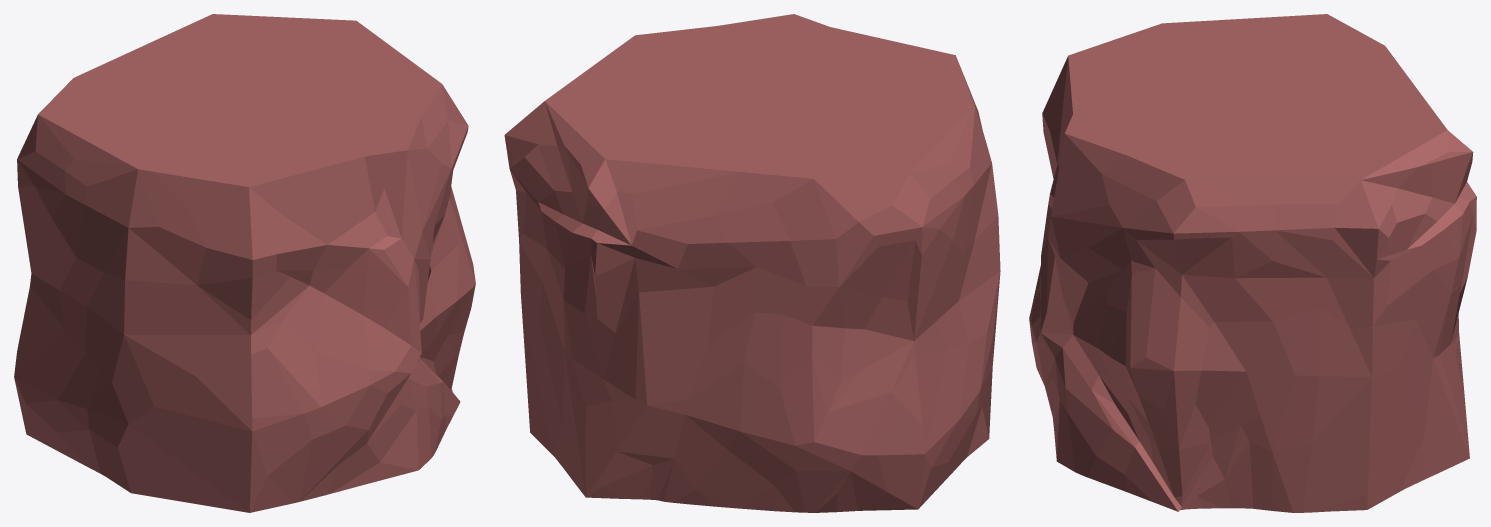
Rendered from Roca_Medio.fbx.
3 renders of one model, left to right at view 1: azimuth 30°, elevation 25°; view 2: azimuth 150°, elevation 25°; view 3: azimuth 270°, elevation 25°, orthographic. The views are drawn at different scales.
Parts seen in each view (by area): view 1: roca_centro:polySurface1; view 2: roca_centro:polySurface1; view 3: roca_centro:polySurface1.
Boxes of the visible parts, box(x1,y1,x2,y2) form: roca_centro:polySurface1: box(14, 14, 475, 512); roca_centro:polySurface1: box(504, 14, 1000, 512); roca_centro:polySurface1: box(1029, 14, 1476, 512).
Bounding box in the file's own units: 0.5128 × 0.4075 × 0.5095.
